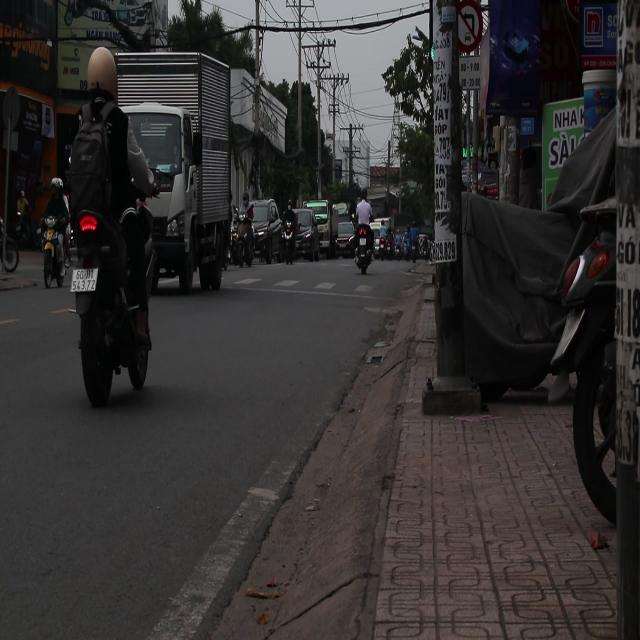car: (279, 201, 320, 263), (245, 200, 282, 264), (334, 223, 356, 250)
motorbike: (71, 206, 151, 399), (38, 212, 66, 292), (352, 225, 377, 276), (282, 205, 296, 264)
truck: (105, 49, 232, 299)
